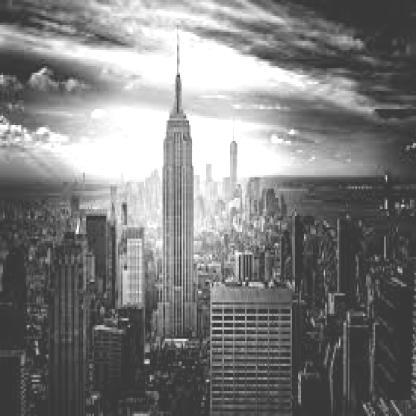Empire-State-building: (162, 11, 198, 333)
